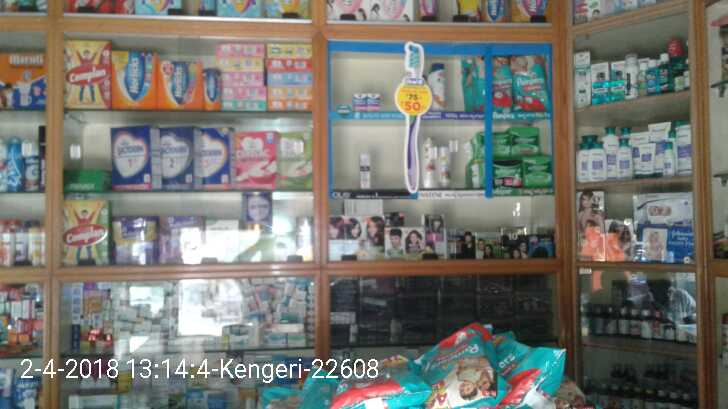vicks: (351, 93, 366, 112), (367, 93, 381, 112)
